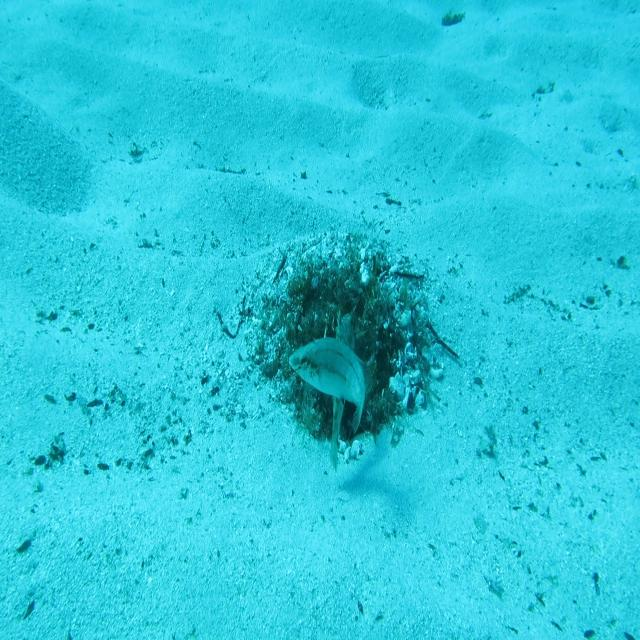FAN: (326, 309, 358, 476)
core_nest: (313, 280, 357, 316)
female: (287, 334, 373, 437)
nest: (238, 220, 452, 474)
vegetation: (441, 10, 464, 30)
